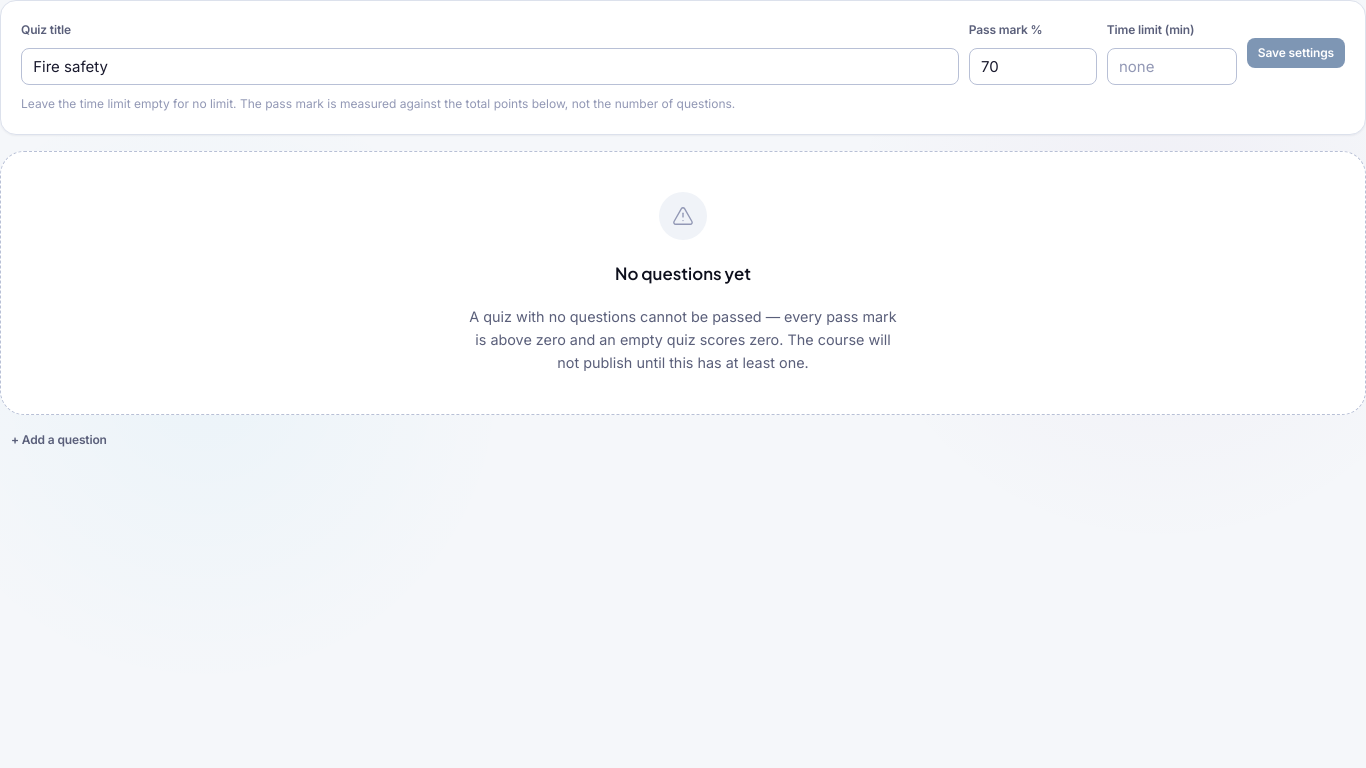
Test: writing a question › surfaces what the server refused
What coordinates should you click on to do the following:
click the button "+ Add a question"
I would click on:
 (59, 440)
Its box is [0,425,118,455].
(page scrolled)
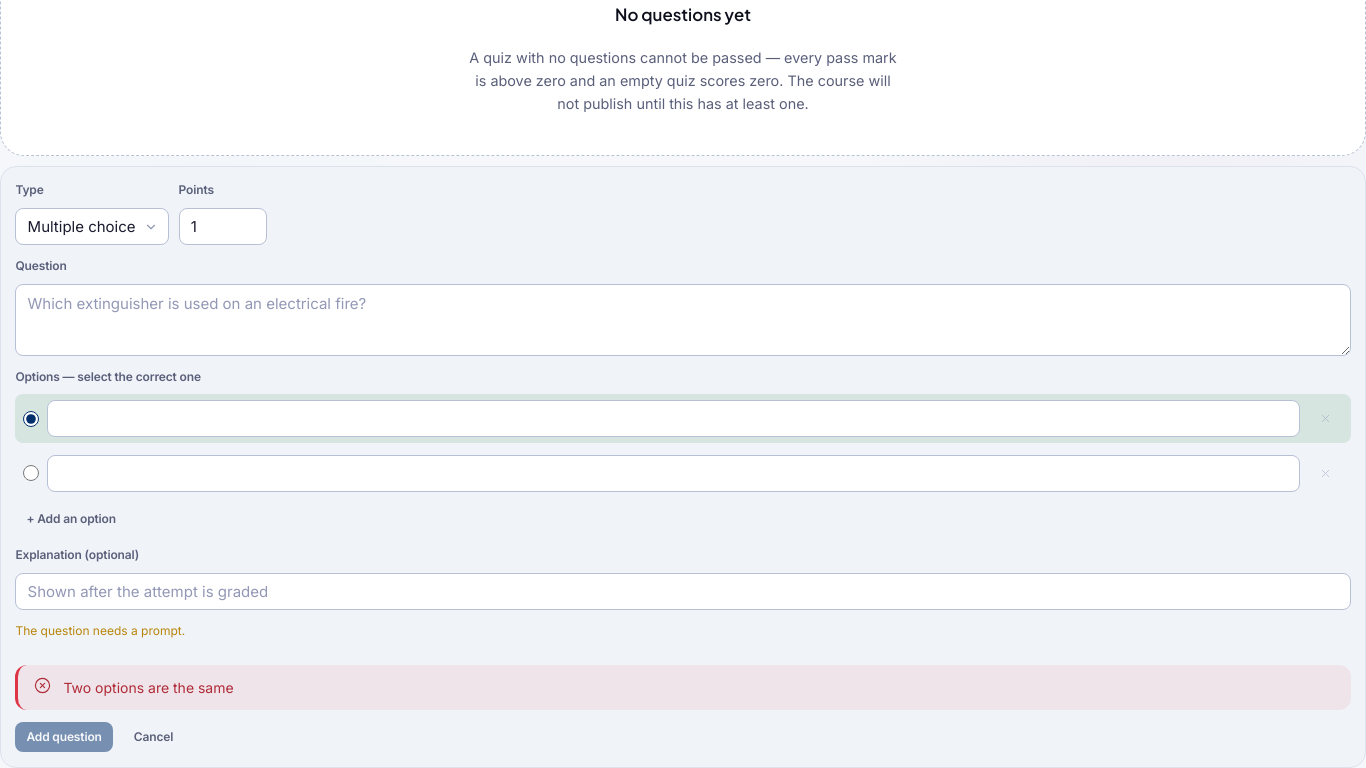
Check: the message reads "Two options are the same", box [63,678,234,696]
